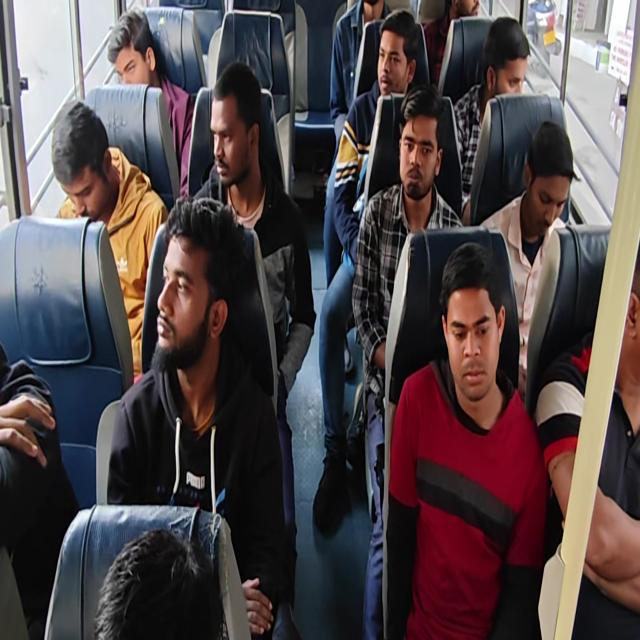person: (2, 1, 638, 638), (105, 194, 287, 638), (190, 61, 316, 619), (382, 241, 548, 638), (351, 83, 465, 637), (312, 8, 420, 534), (535, 240, 639, 638), (51, 100, 169, 382), (478, 120, 577, 402), (324, 9, 419, 286), (0, 339, 80, 638), (106, 8, 195, 198), (452, 16, 530, 223), (93, 526, 225, 639), (329, 0, 392, 154), (423, 0, 480, 88)
